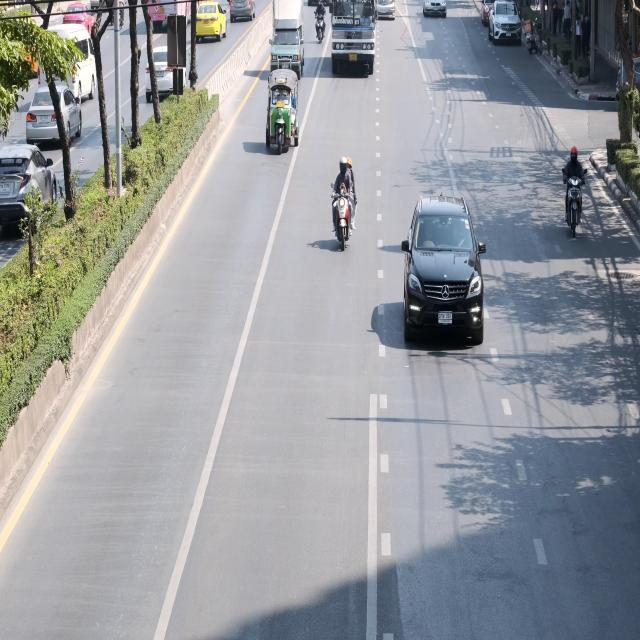bus: (328, 0, 378, 80)
cars: (392, 188, 488, 352), (0, 143, 58, 245), (40, 21, 98, 103), (25, 88, 83, 154), (142, 42, 186, 101), (269, 20, 306, 76), (194, 0, 230, 42), (488, 0, 522, 43), (59, 0, 95, 29), (229, 0, 258, 26), (375, 0, 396, 20), (483, 0, 501, 22), (422, 0, 446, 15)
motorcycle: (329, 150, 361, 253), (561, 146, 588, 240), (524, 20, 543, 56), (313, 0, 327, 47), (113, 0, 124, 31)
tricycle: (263, 68, 303, 157)
